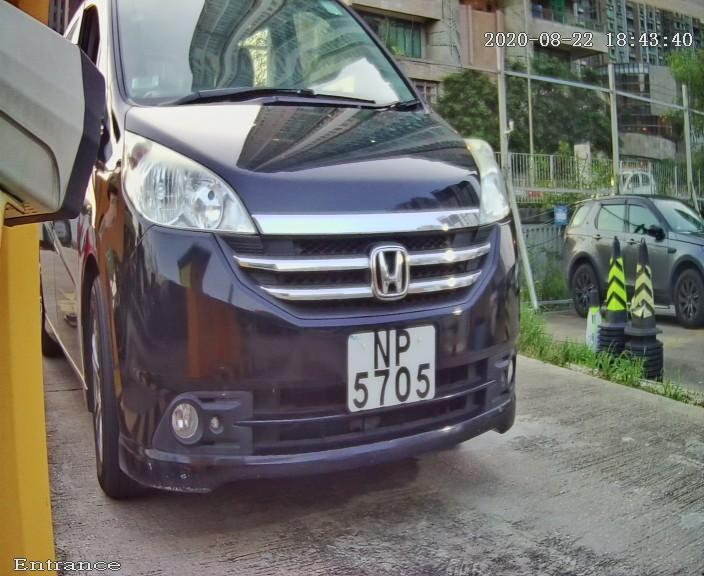License Plate: (340, 317, 441, 427)
